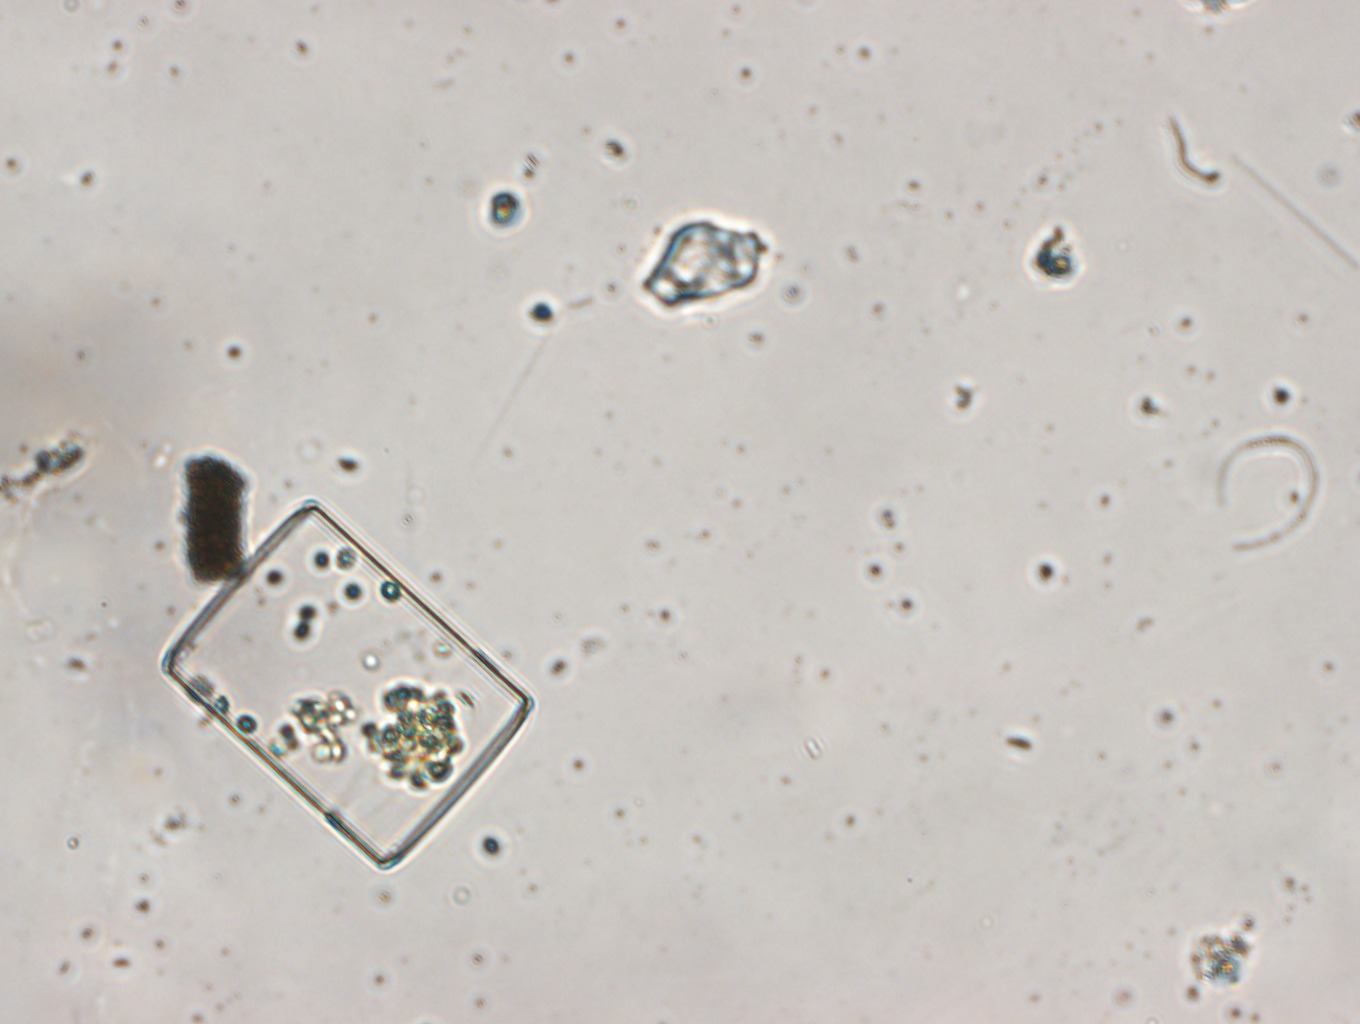guinardia flaccida: (155, 495, 536, 877)
